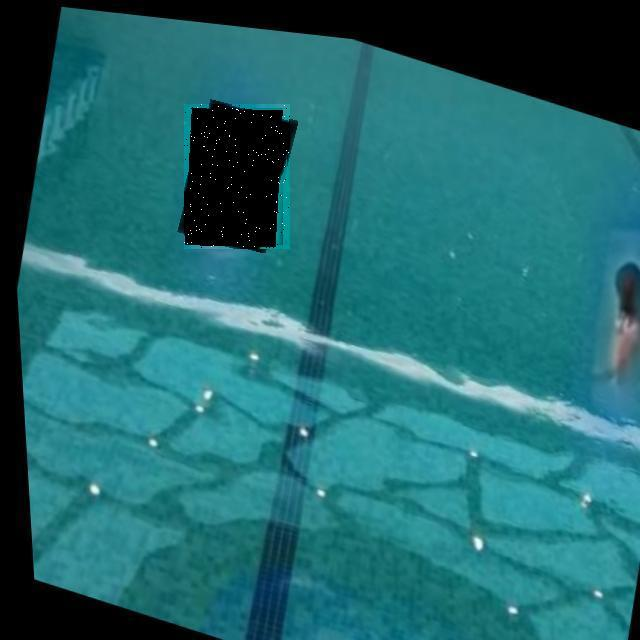swimming: (184, 104, 290, 249)
